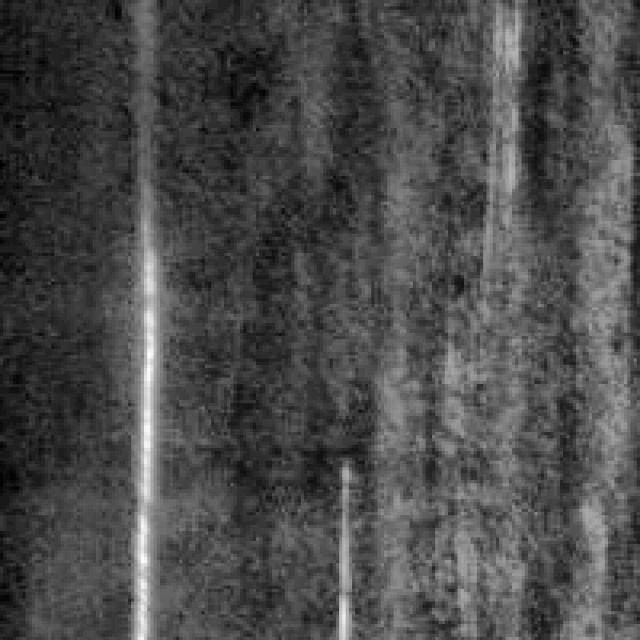Inclusion: (122, 211, 164, 634)
